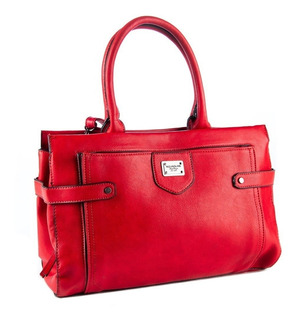cartera: (34, 14, 282, 298)
